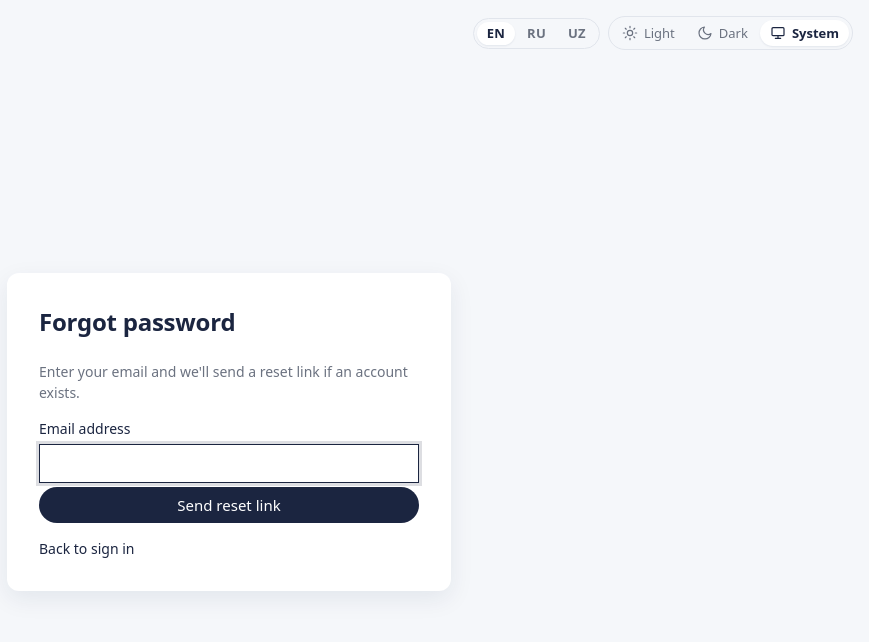
it: ForgotPasswordPage › shows the rate-limited copy on a 429 and keeps the form up
In the field labelled "Email address": coordinates (229, 463) x1=39 y1=444 x2=419 y2=483, type "person@example.com"
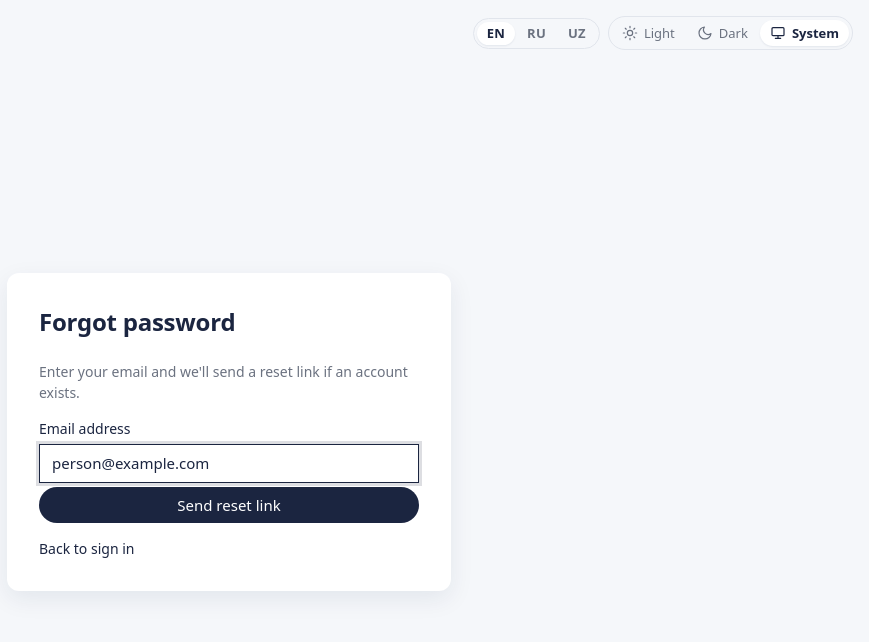
Click the button "Send reset link": coordinates (229, 505) x1=39 y1=487 x2=419 y2=523
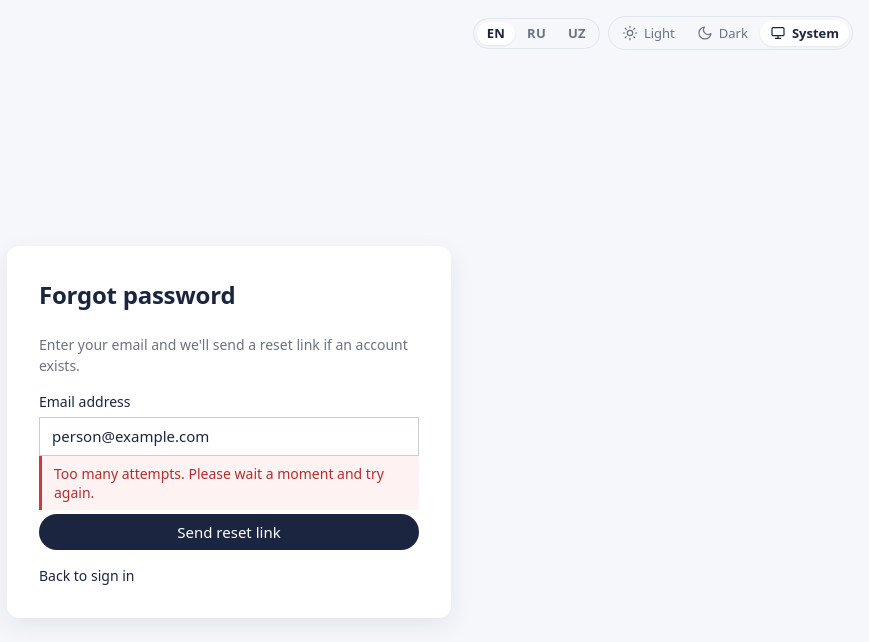
Expected: the text "Too many attempts. Please wait a moment and try again." is shown, x1=39 y1=456 x2=419 y2=510
